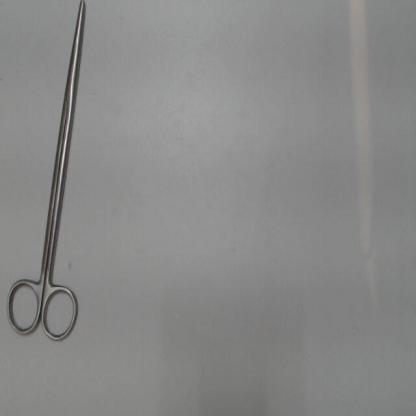9 Metzenbaum Scissors: (2, 1, 88, 352)
